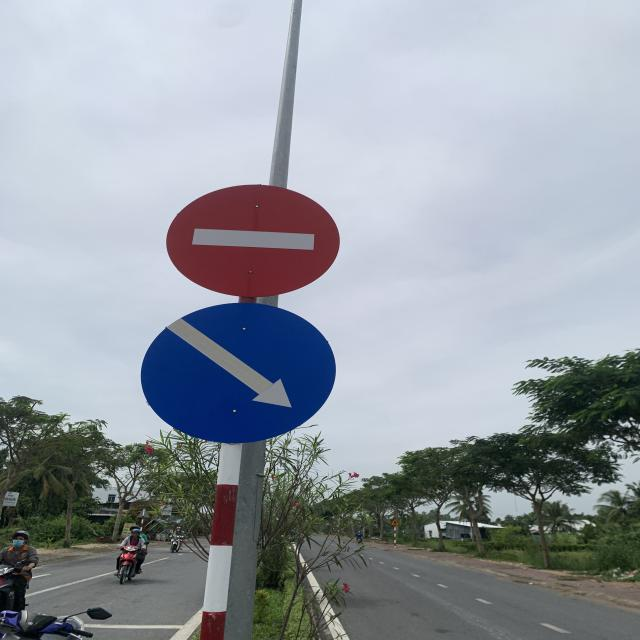Cam_Di_Nguoc_Chieu: (162, 183, 340, 301)
Chi_Huong_Di_Phai: (142, 303, 338, 442)
